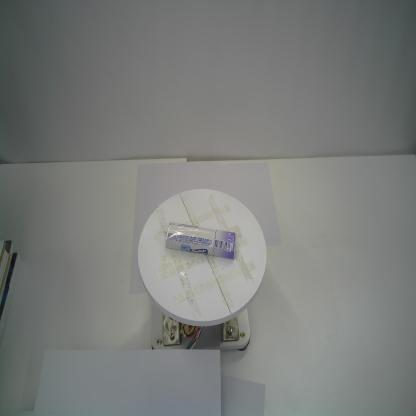Candy: (165, 221, 236, 259)
